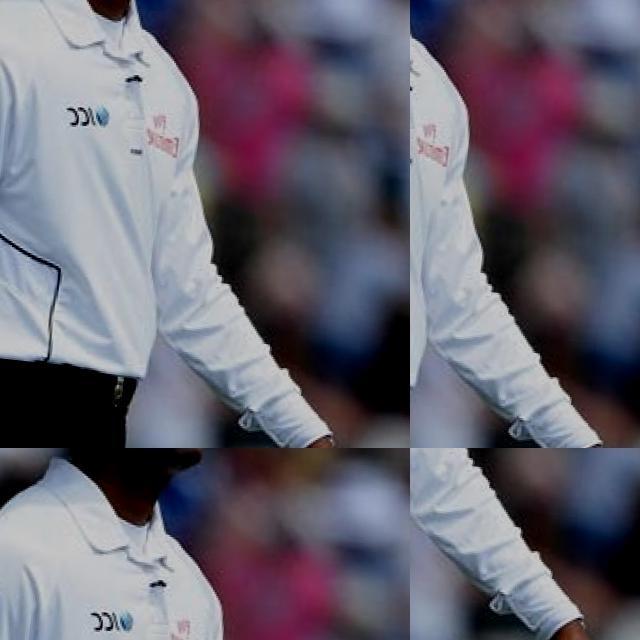No_Action: (0, 58, 410, 448), (0, 448, 410, 640)
No_Ball: (410, 448, 640, 640)
